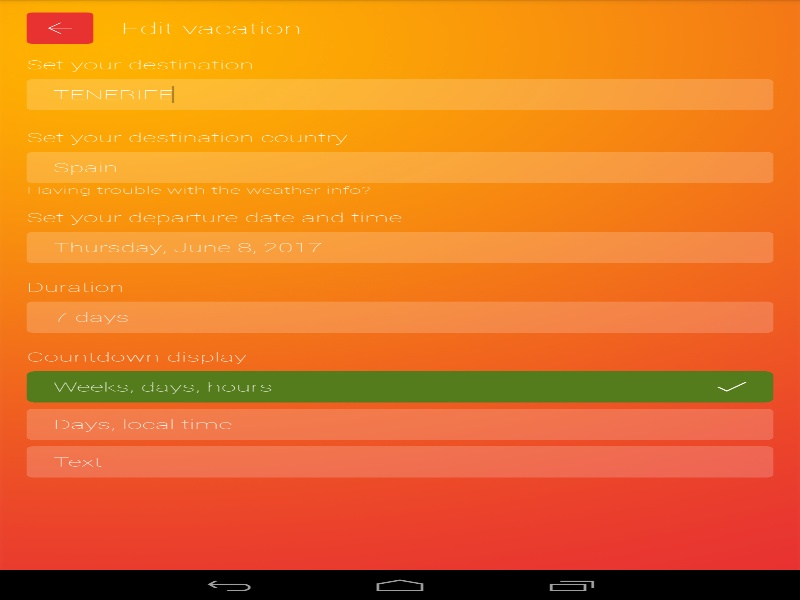Input: (26, 151, 773, 183), (26, 79, 773, 110)
